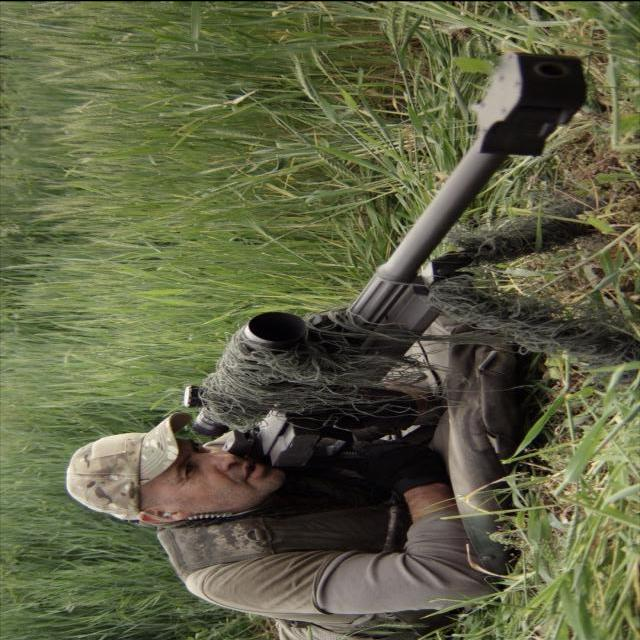sniper rifle: (184, 47, 628, 469)
